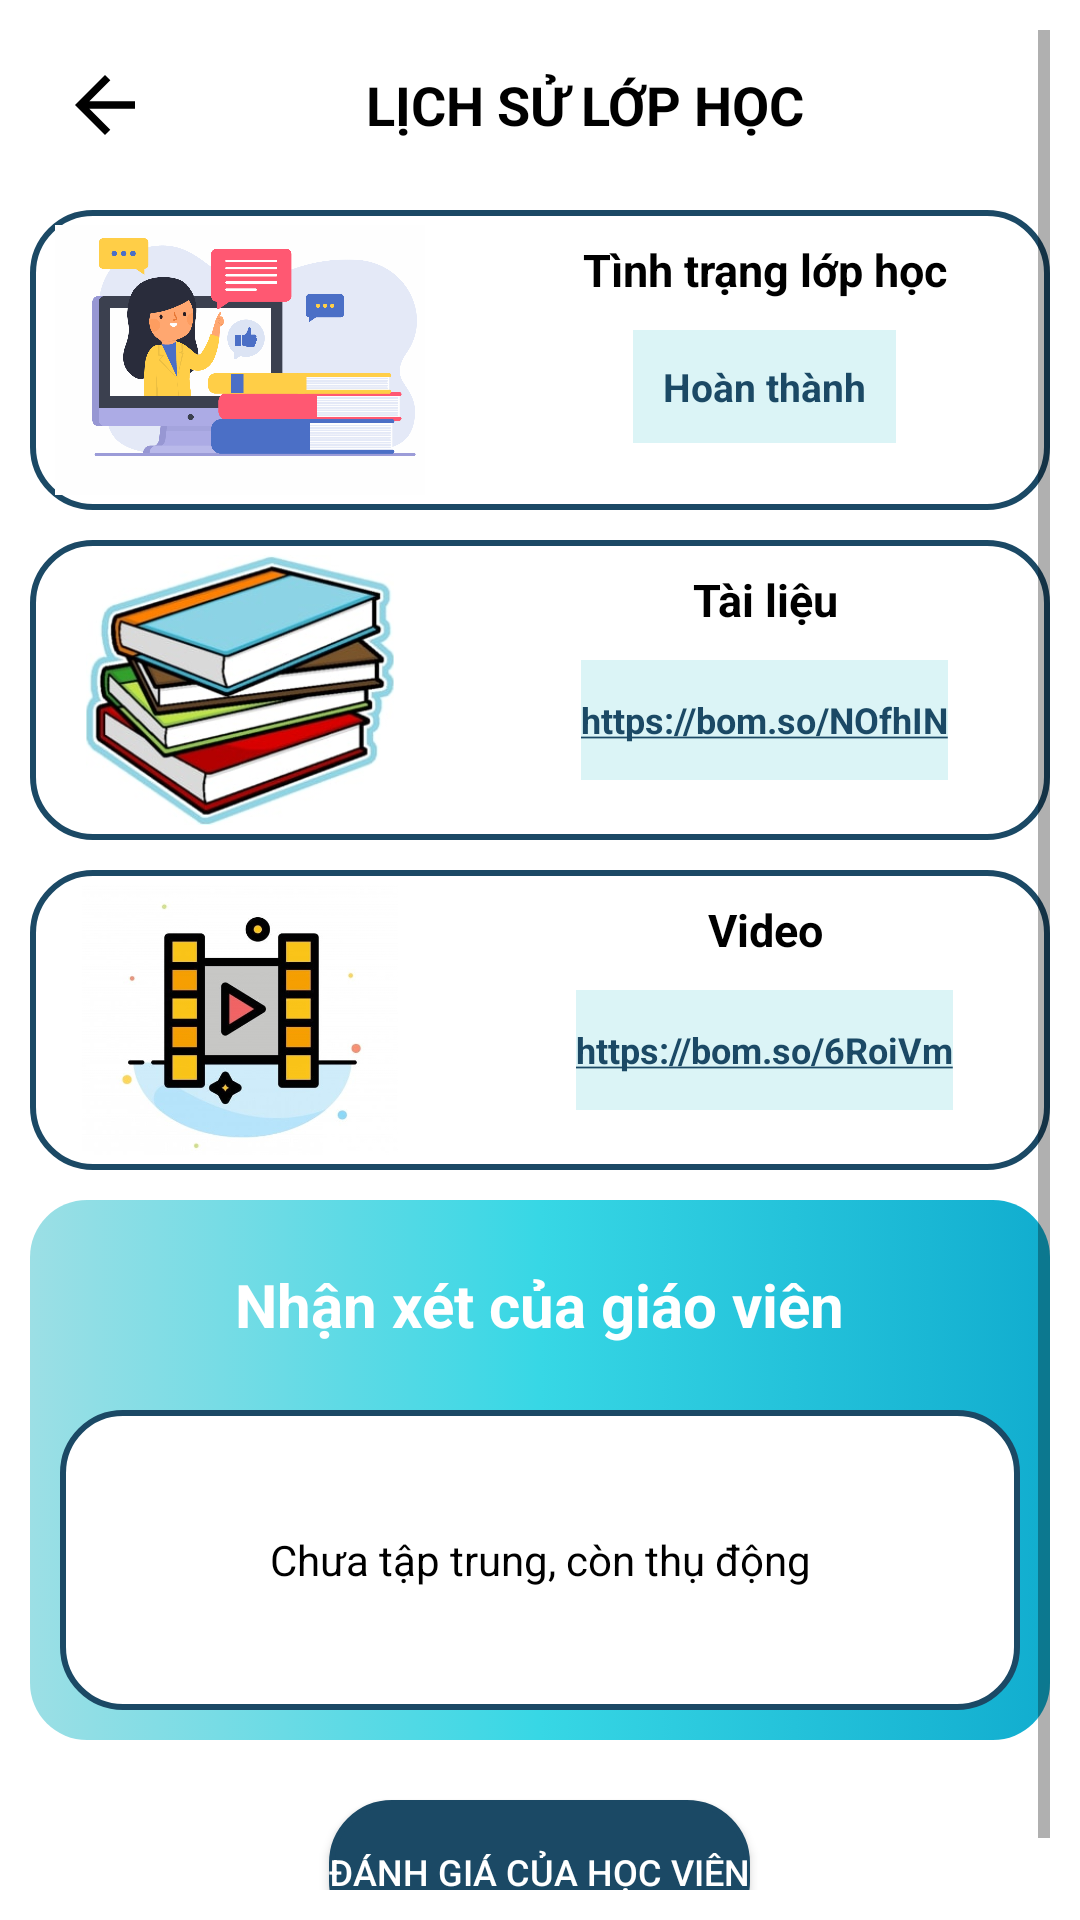

Where icons sit on this 1080px x 1920px app screen, as detection(x1, y1, x2, y2):
back arrow: detection(75, 75, 135, 135)
book: detection(86, 557, 394, 825)
vid: detection(122, 904, 361, 1148)
